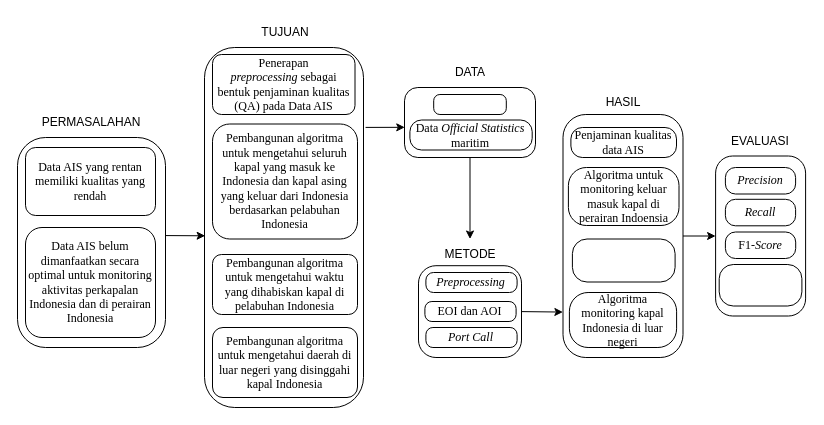
Some shapes in this 824 by 425 pixel diagram are drawn without their labels. Here are the shapes that lost their labels. From the top down, the box of each, then its label:
(433, 94, 506, 114): Data AIS
(571, 238, 675, 282): Algoritma waktu kapal di pelabuhan Indonesia
(718, 264, 802, 306): Perbandingan Deskriptif
